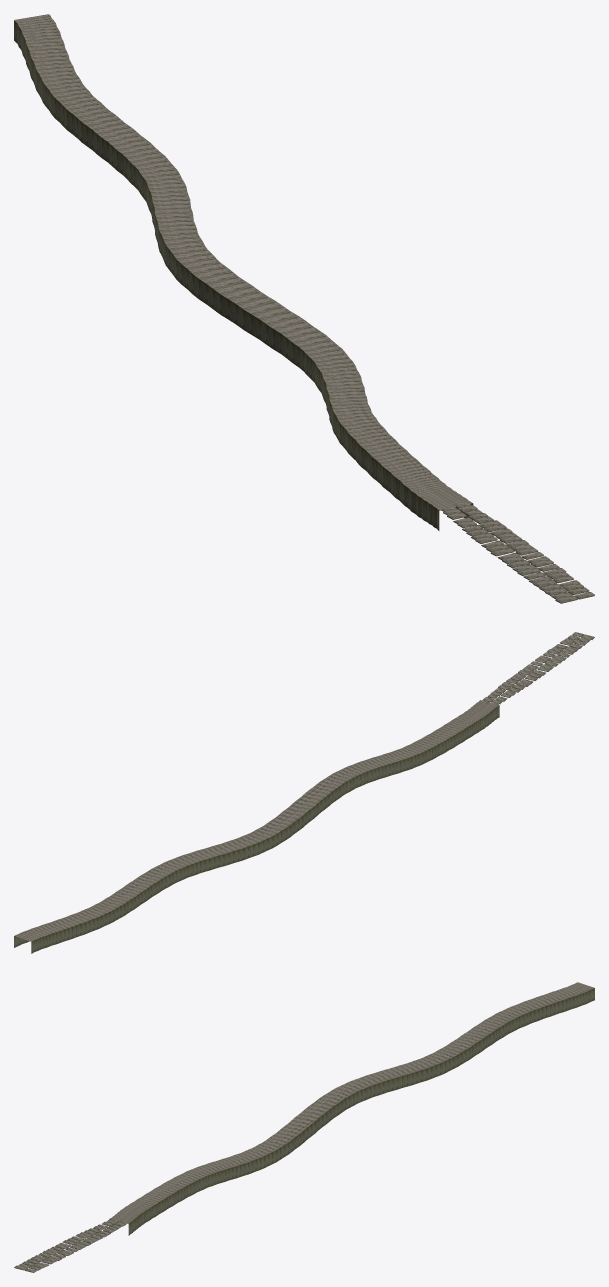
Rendered from causeway.glb.
The picture shows the model from 3 angles, top to bottom: view 1: azimuth 30°, elevation 25°; view 2: azimuth 150°, elevation 25°; view 3: azimuth 330°, elevation 25°; orthographic projection. The views are drawn at different scales.
Visible parts, largest first — view 1: causeway0; view 2: causeway0; view 3: causeway0.
Boxes of the visible parts, left/top/right/bottom form: causeway0: left=14, top=14, right=594, bottom=603; causeway0: left=14, top=632, right=594, bottom=953; causeway0: left=14, top=982, right=594, bottom=1272.
Bounding box in the file's own units: 15.69 × 2.35 × 86.24.
1 material, 1 textured.
